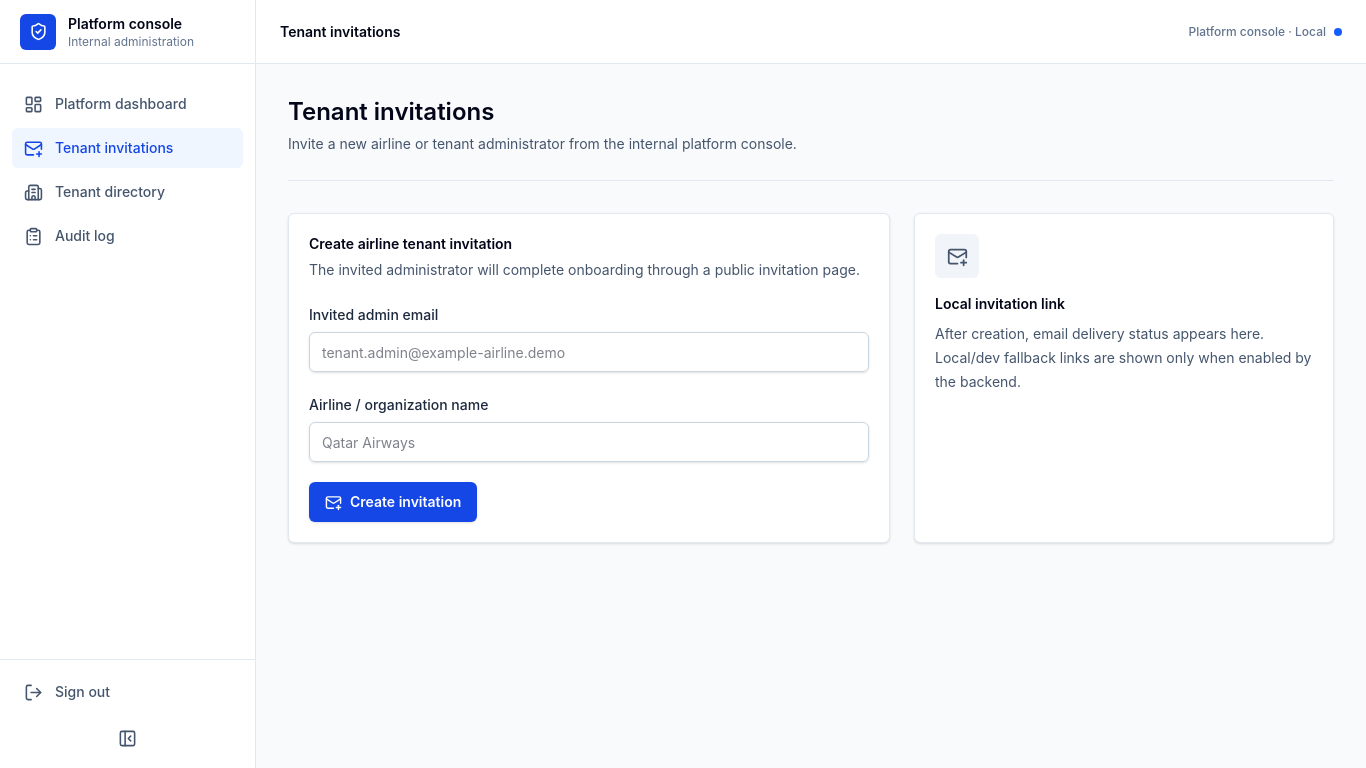
Test: PlatformInvitationsPage › creates a platform invitation with exactly email and organizationName
Type "tenant.admin@thy.demo" into the field labelled "Invited admin email" at (589, 352), box [309,332,869,372]
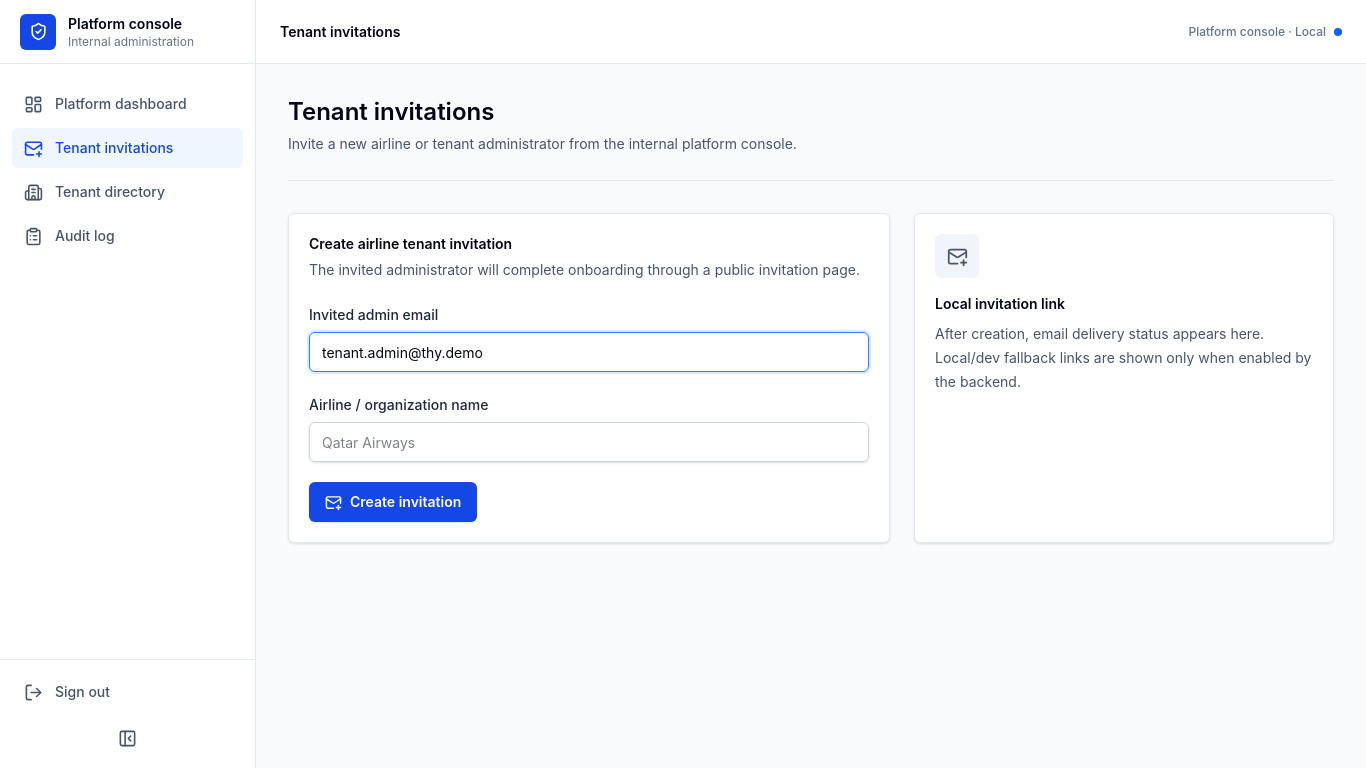
Type "THY Airlines" into the field labelled "Airline / organization name" at (589, 442), box [309,422,869,462]
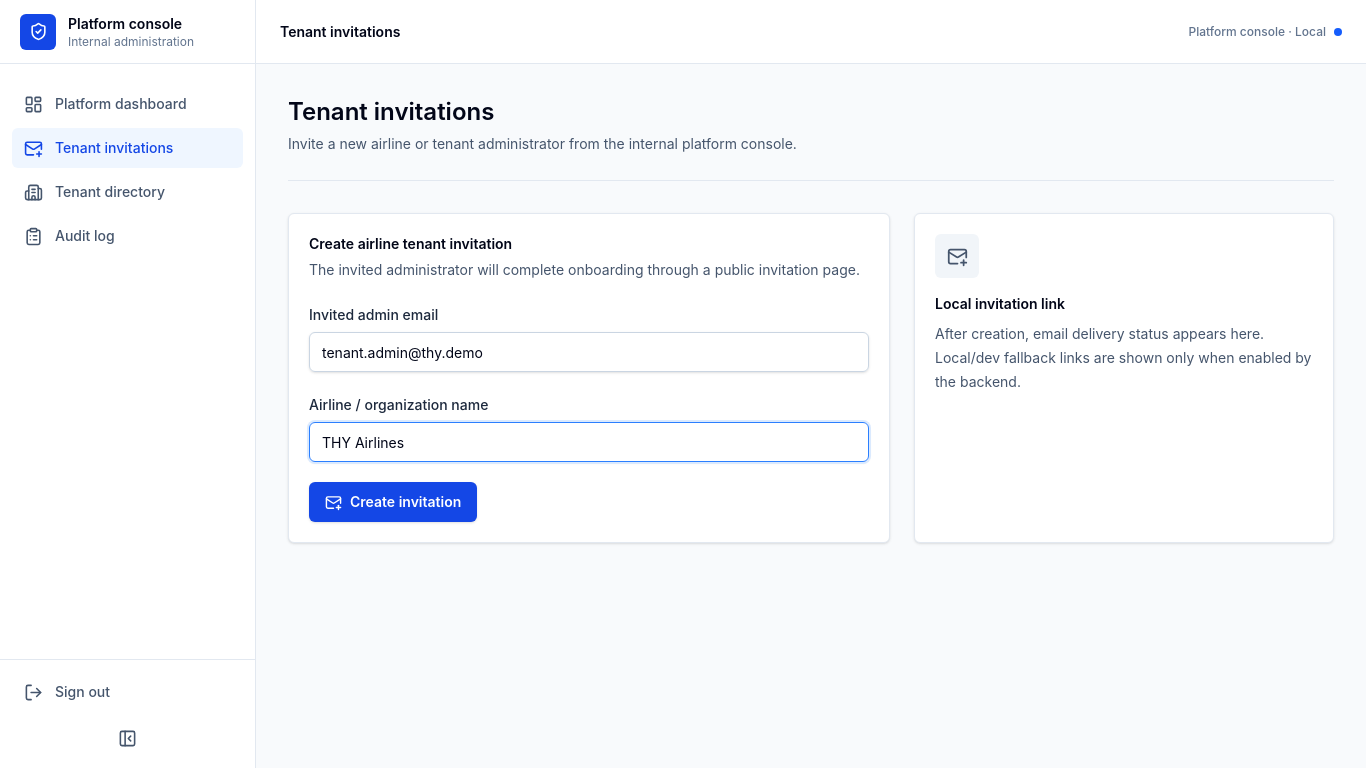
Click the button "Create invitation" at (393, 502), box [309,482,477,522]
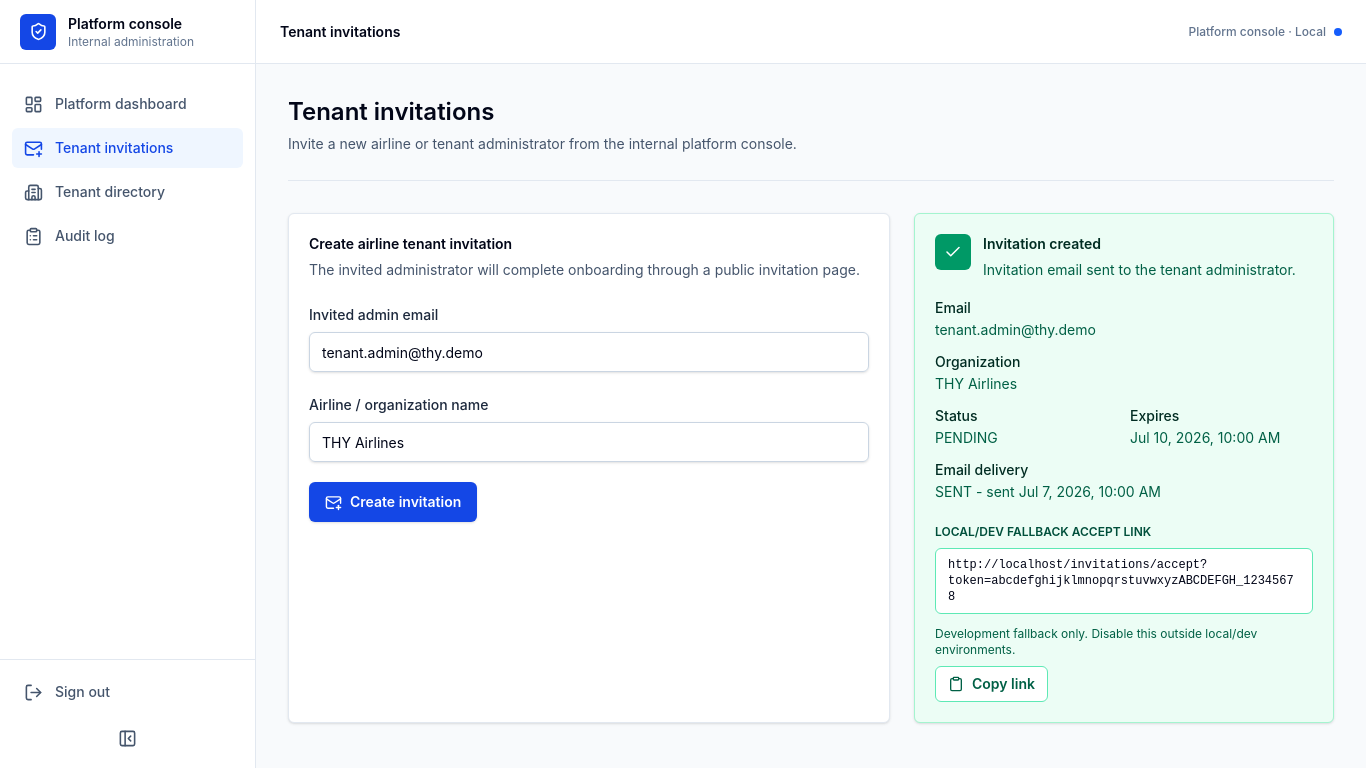
Expected: the heading "Invitation created" is shown, [983,235,1101,252]
